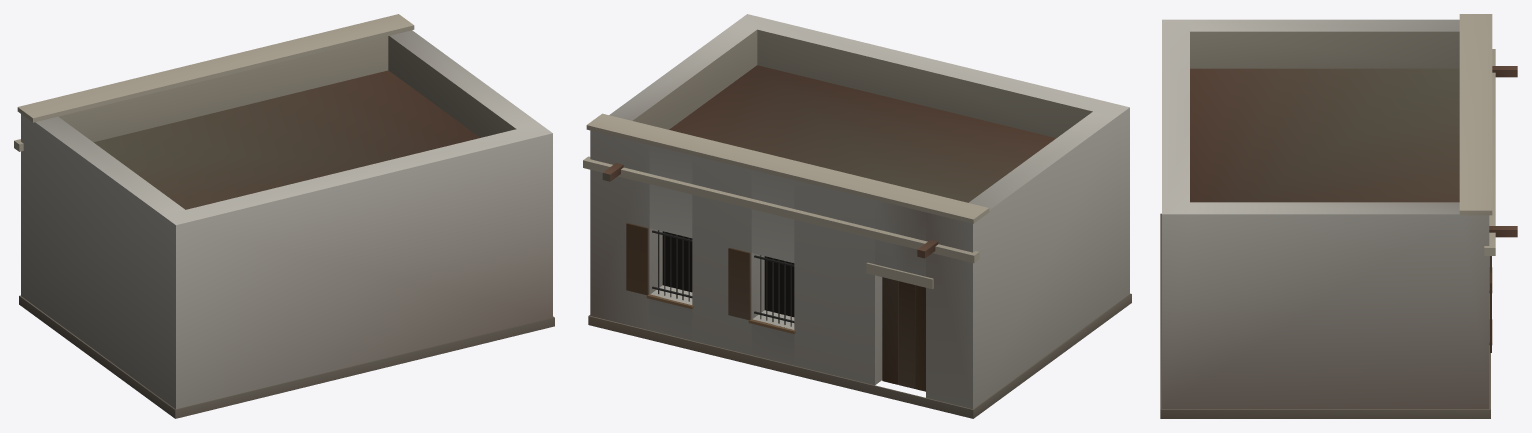
File: casa_ba_b_lod.glb
3 renders of one model, left to right at view 1: azimuth 30°, elevation 25°; view 2: azimuth 150°, elevation 25°; view 3: azimuth 270°, elevation 25°, orthographic. The views are drawn at different scales.
Visible parts, largest first — view 1: casa_ba_b; view 2: casa_ba_b; view 3: casa_ba_b.
Boxes of the visible parts, box(x1,y1,x2,y2) form: casa_ba_b: box(14, 14, 554, 418); casa_ba_b: box(583, 14, 1131, 418); casa_ba_b: box(1160, 14, 1517, 418).
Size of the model in its own units: 9.2 by 4.5 by 6.98.
